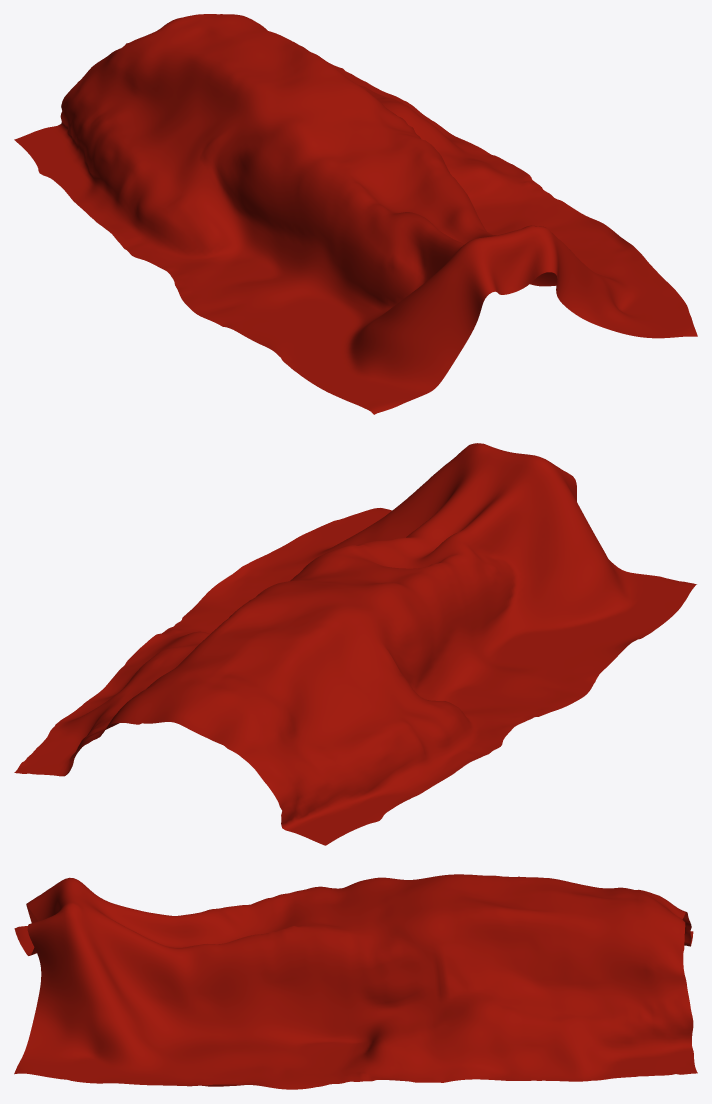
The model's file is Blankets_Ani.fbx.
The picture shows the model from 3 angles, top to bottom: view 1: azimuth 30°, elevation 25°; view 2: azimuth 150°, elevation 25°; view 3: azimuth 270°, elevation 25°; orthographic projection. The views are drawn at different scales.
Parts seen in each view (by area): view 1: Blankets; view 2: Blankets; view 3: Blankets.
Part boxes in pixels (<box>): Blankets: <box>14,14,697,414</box>; Blankets: <box>14,443,696,845</box>; Blankets: <box>14,874,697,1089</box>.
Bounding box in the file's own units: 92.88 × 27.29 × 152.
